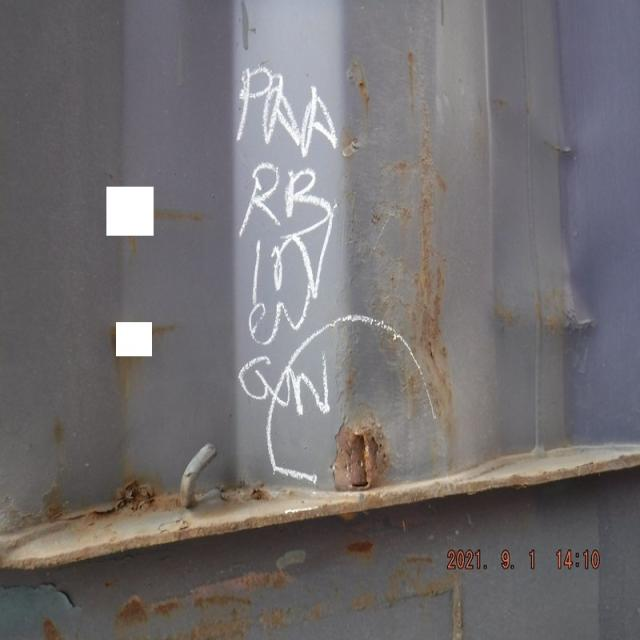rust: (332, 424, 385, 497), (89, 479, 155, 518)
